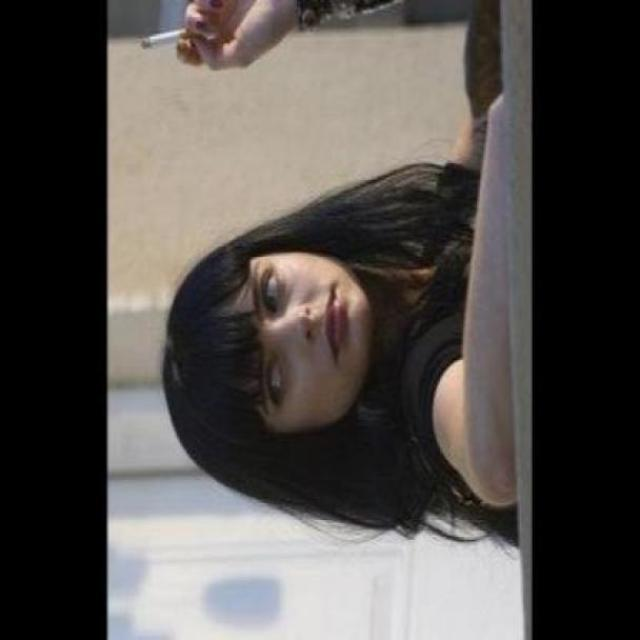rokok: (140, 22, 198, 52)
